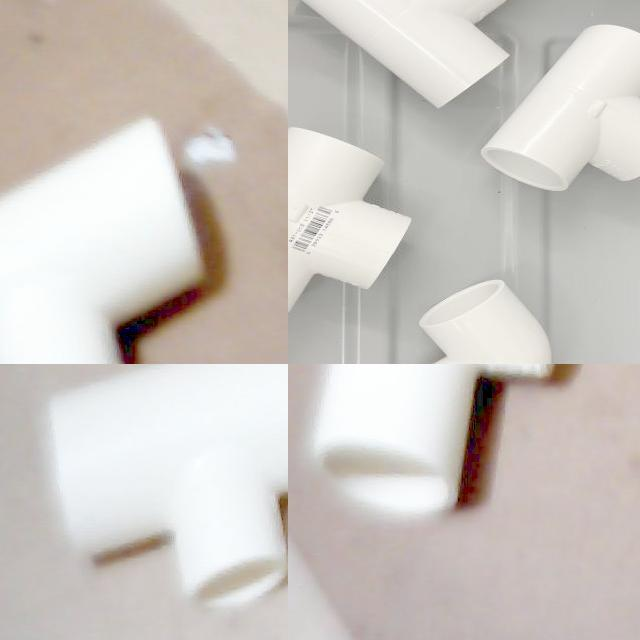L Joint: (417, 281, 552, 364)
T Joint: (44, 364, 288, 612), (0, 118, 206, 364), (307, 364, 554, 523), (482, 24, 640, 195), (297, 0, 510, 110), (288, 127, 407, 314)
